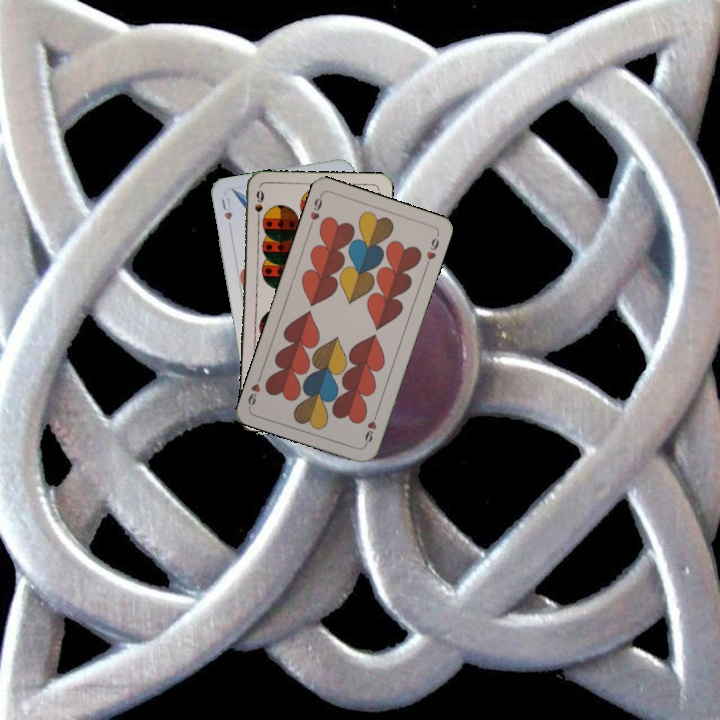H9: (305, 191, 325, 230), (361, 409, 380, 448)
HU: (218, 193, 235, 222)
S9: (251, 186, 267, 226)
